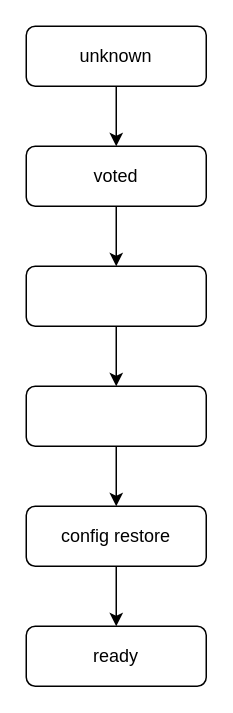
This 233x713 diagram has some shape labels left out. Each missing label, with the centre of its shape:
dp ready: [115,295]
port ready: [115,415]
